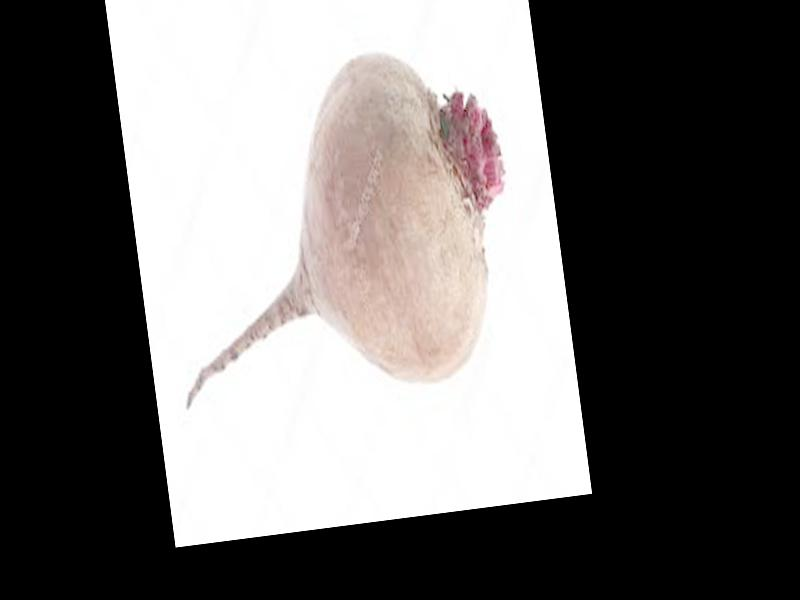Beet: (143, 32, 528, 414)
